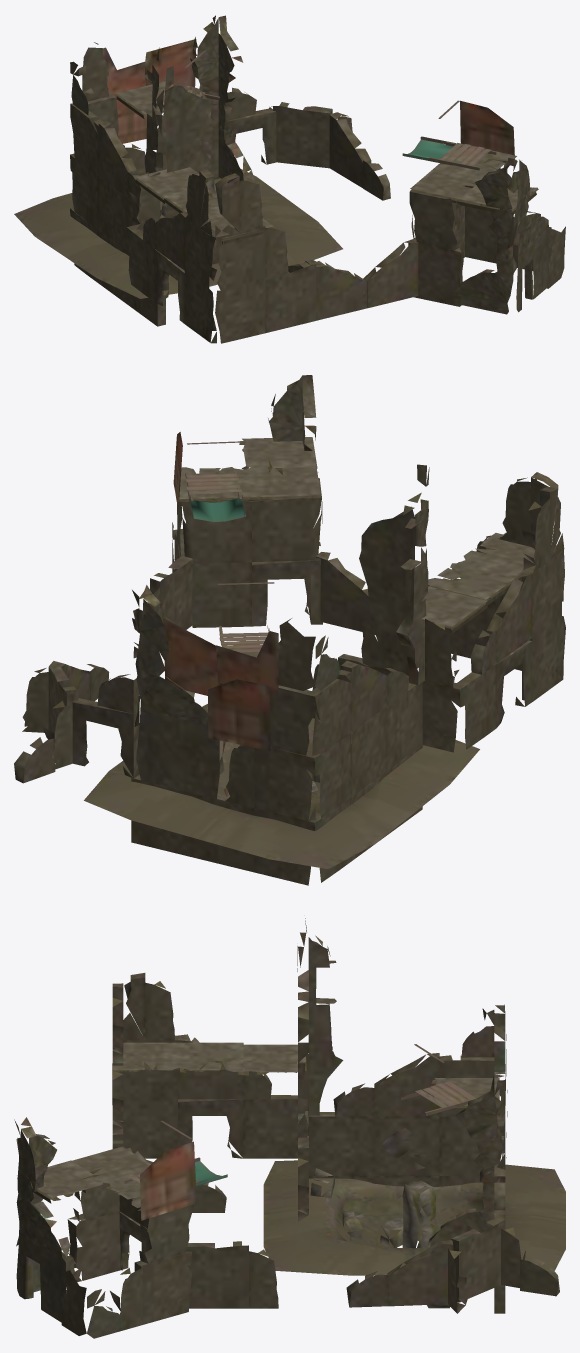
Rendered from jungle_ruins_e.glb.
3 renders of one model, top to bottom at view 1: azimuth 30°, elevation 25°; view 2: azimuth 150°, elevation 25°; view 3: azimuth 270°, elevation 25°, orthographic. The views are drawn at different scales.
Parts seen in each view (by area): view 1: jungle_ruins_e_HLOD; view 2: jungle_ruins_e_HLOD; view 3: jungle_ruins_e_HLOD.
Part boxes in pixels (x1=…): jungle_ruins_e_HLOD: x1=14, y1=15, x2=565, y2=343; jungle_ruins_e_HLOD: x1=14, y1=375, x2=565, y2=885; jungle_ruins_e_HLOD: x1=14, y1=918, x2=565, y2=1338.
Size of the model in its own units: 20.54 by 16.24 by 25.3.
1 material, 1 textured.
